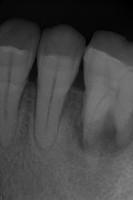Dental Caries: (73, 111, 127, 157)
